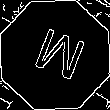M_S: (24, 23, 86, 87)
